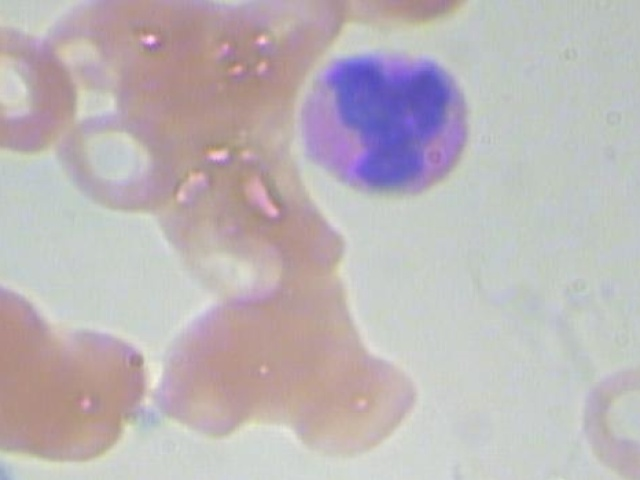Platelets: (0, 454, 17, 480)
RBC: (150, 312, 279, 443), (29, 311, 158, 442), (277, 343, 418, 462), (51, 100, 182, 215), (0, 19, 90, 161), (220, 0, 355, 90), (568, 348, 640, 480), (0, 262, 51, 399)
WBC: (284, 28, 495, 216)
